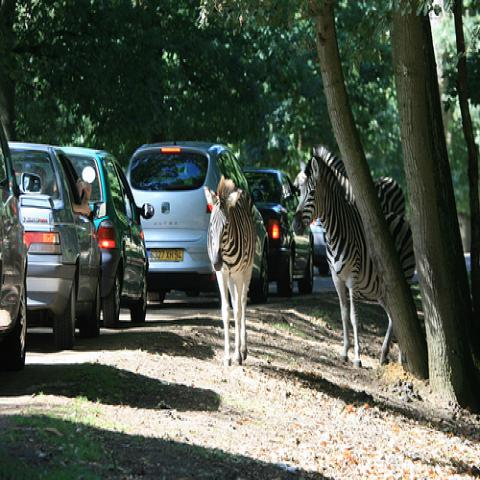car: (126, 138, 271, 308), (7, 142, 106, 350), (59, 145, 156, 330), (245, 170, 315, 297), (0, 123, 30, 389)
